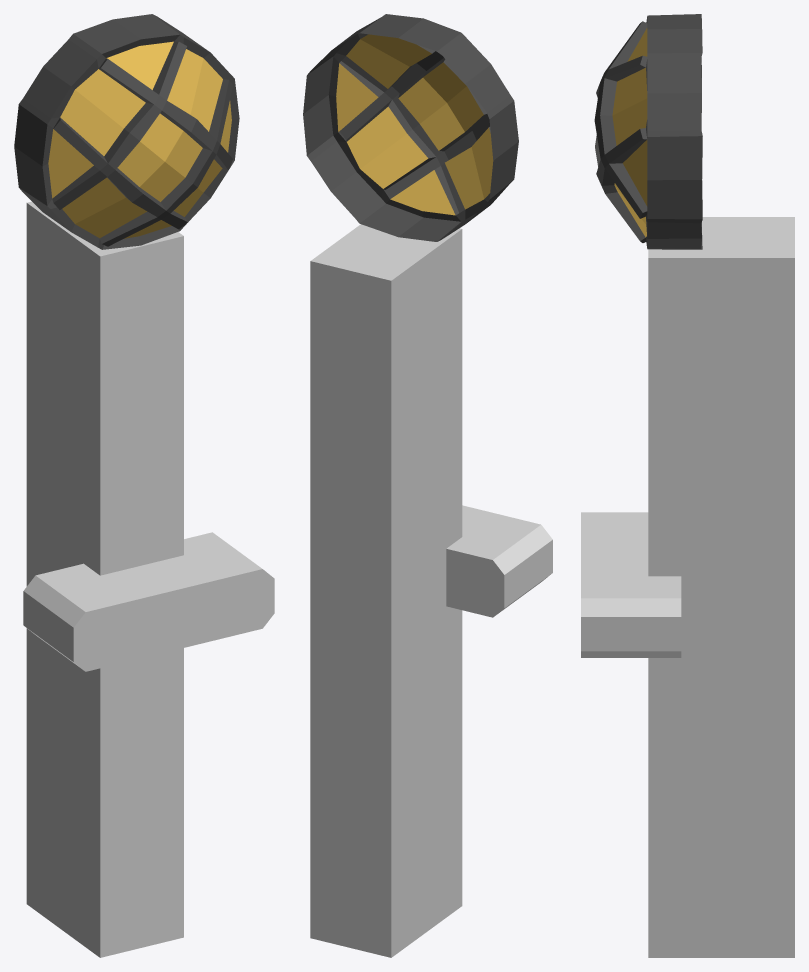
Rendered from Slider.fbx.
The picture shows the model from 3 angles, left to right: view 1: azimuth 30°, elevation 25°; view 2: azimuth 150°, elevation 25°; view 3: azimuth 270°, elevation 25°; orthographic projection. The views are drawn at different scales.
Parts seen in each view (by area): view 1: BreakerSlider, BreakerLamp, SliderHandle; view 2: BreakerSlider, BreakerLamp, SliderHandle; view 3: BreakerSlider, BreakerLamp, SliderHandle.
Boxes of the visible parts, x1=… form: BreakerSlider: x1=26, y1=201, x2=183, y2=957; BreakerLamp: x1=14, y1=14, x2=239, y2=249; SliderHandle: x1=23, y1=532, x2=274, y2=671; BreakerSlider: x1=310, y1=224, x2=462, y2=957; BreakerLamp: x1=303, y1=14, x2=518, y2=241; SliderHandle: x1=446, y1=505, x2=552, y2=617; BreakerSlider: x1=648, y1=217, x2=794, y2=957; BreakerLamp: x1=594, y1=14, x2=702, y2=249; SliderHandle: x1=581, y1=512, x2=681, y2=657.
Bounding box in the file's own units: 12 × 51.85 × 11.07.
